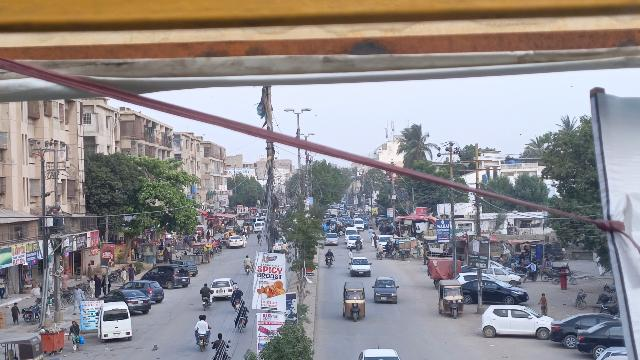Bike: (212, 331, 229, 360), (574, 290, 588, 310), (237, 315, 248, 333), (197, 335, 206, 352), (325, 255, 334, 269), (201, 297, 209, 312), (233, 298, 241, 313), (245, 265, 251, 277)
Car: (479, 302, 553, 342), (549, 311, 613, 347), (460, 276, 529, 306), (576, 321, 631, 358), (98, 289, 151, 314), (141, 264, 193, 289), (120, 280, 165, 304), (371, 274, 401, 309), (352, 343, 403, 360), (209, 276, 236, 300), (348, 256, 374, 277)
Person: (65, 318, 84, 353), (72, 282, 84, 315), (195, 314, 211, 336), (10, 301, 21, 325), (199, 282, 213, 297), (60, 269, 69, 290), (237, 301, 249, 316), (88, 276, 96, 298), (232, 285, 244, 298), (128, 262, 135, 282), (119, 267, 128, 282), (243, 254, 252, 266), (324, 248, 334, 257)
Rickshaw: (436, 278, 467, 319), (341, 279, 369, 323)
Van: (96, 301, 133, 344)
